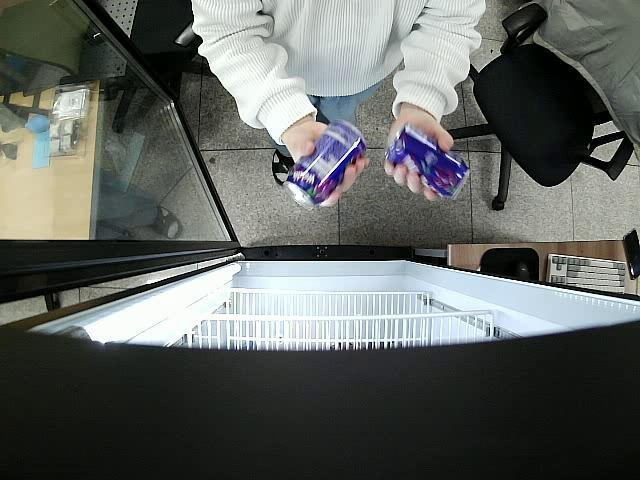14_welchsGrape: (284, 122, 366, 209), (385, 121, 472, 202)
